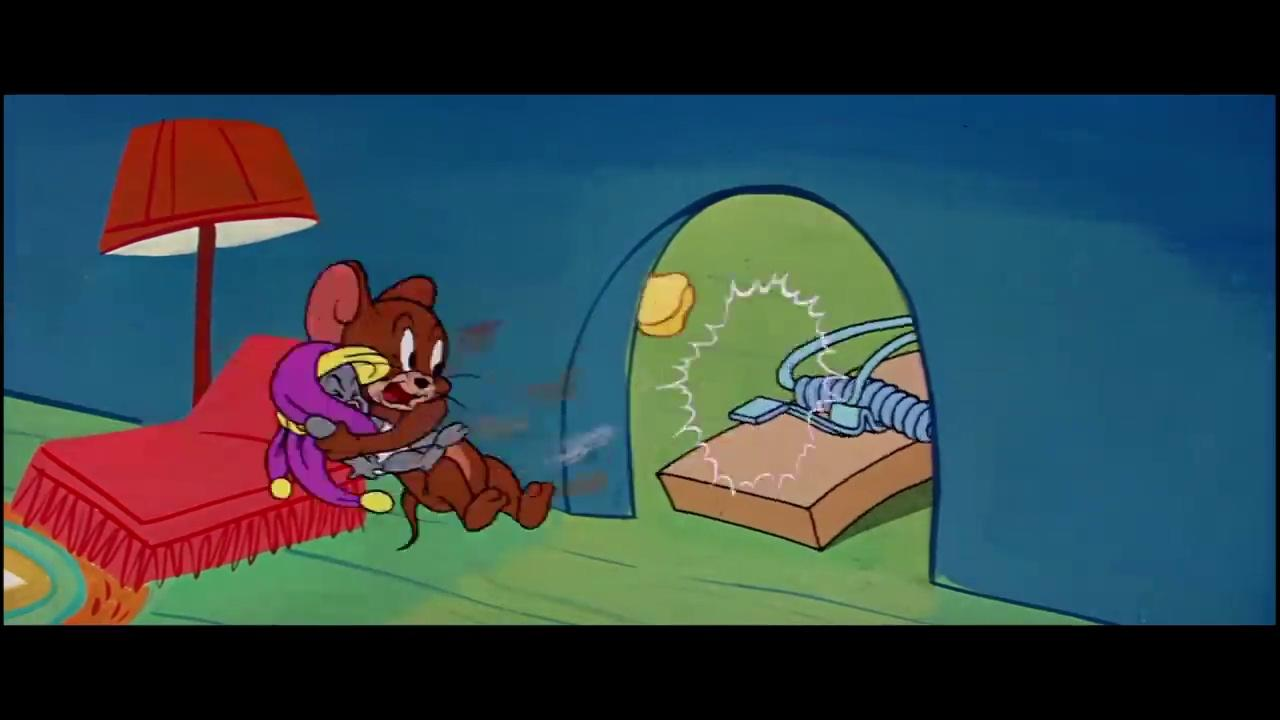Jerry: (305, 256, 558, 553)
